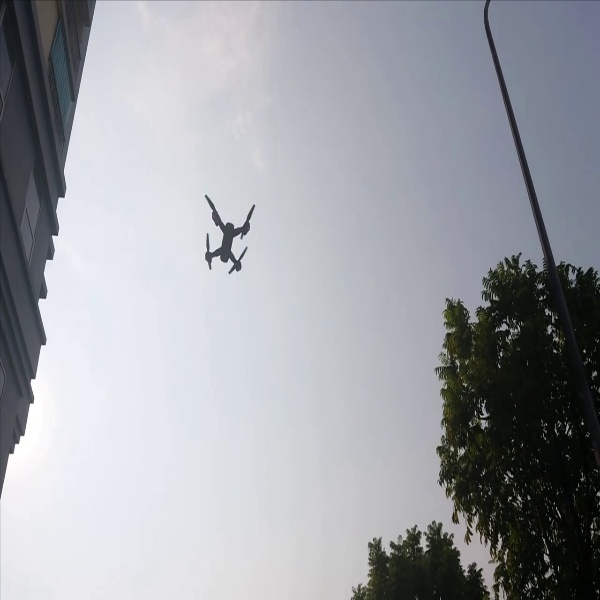drone: (181, 182, 268, 280)
